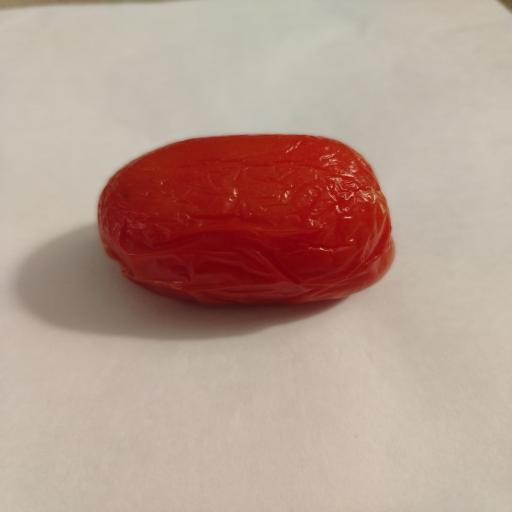spoiled: (98, 135, 394, 304)
